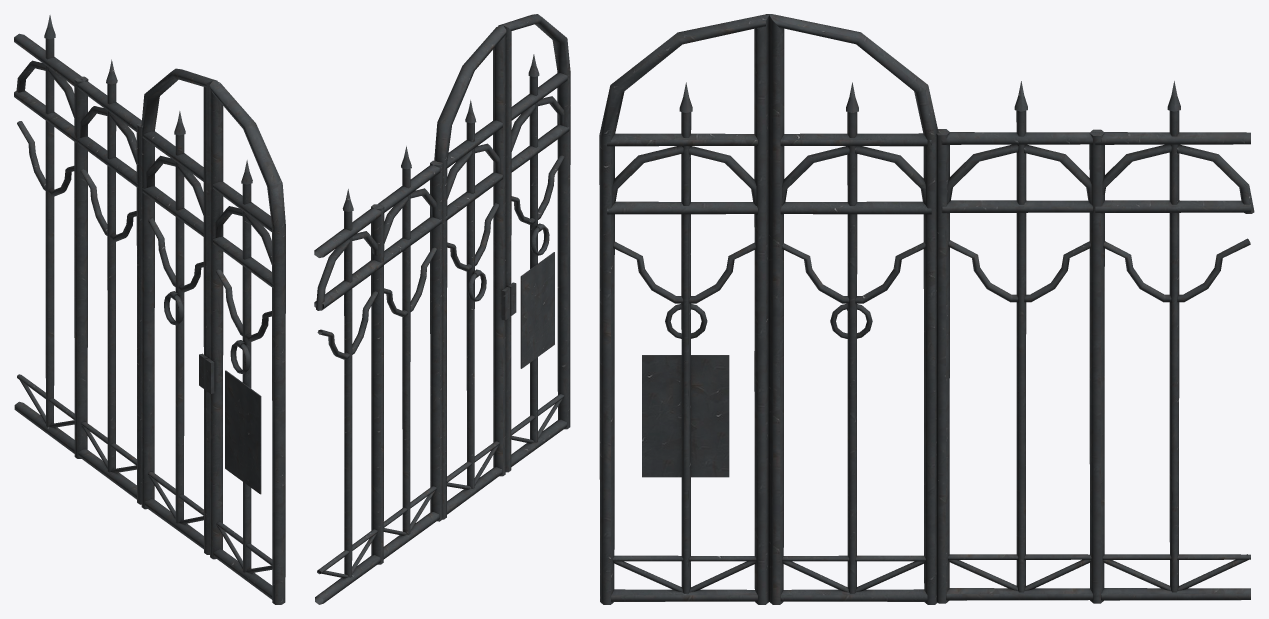
The model's file is reja.fbx.
3 views of the same model, side by side, from view 1: azimuth 30°, elevation 25°; view 2: azimuth 150°, elevation 25°; view 3: azimuth 270°, elevation 25° (orthographic). The views are drawn at different scales.
Parts seen in each view (by area): view 1: Obj_porton_left, Obj_porton_right, Obj_reja_full, Obj_reja_middle; view 2: Obj_porton_left, Obj_porton_right, Obj_reja_full, Obj_reja_middle; view 3: Obj_porton_left, Obj_porton_right, Obj_reja_full, Obj_reja_middle.
Boxes of the visible parts, x1=… form: Obj_porton_left: x1=205, y1=80, x2=285, y2=604; Obj_porton_right: x1=141, y1=68, x2=217, y2=554; Obj_reja_full: x1=74, y1=59, x2=141, y2=504; Obj_reja_middle: x1=14, y1=15, x2=82, y2=453; Obj_porton_left: x1=498, y1=14, x2=570, y2=472; Obj_porton_right: x1=434, y1=25, x2=510, y2=519; Obj_reja_full: x1=371, y1=146, x2=442, y2=564; Obj_reja_middle: x1=314, y1=189, x2=383, y2=604; Obj_porton_left: x1=599, y1=14, x2=769, y2=604; Obj_porton_right: x1=769, y1=14, x2=938, y2=604; Obj_reja_full: x1=936, y1=81, x2=1104, y2=603; Obj_reja_middle: x1=1095, y1=81, x2=1254, y2=600.
Bounding box in the file's own units: 21.59 × 612 × 618.
